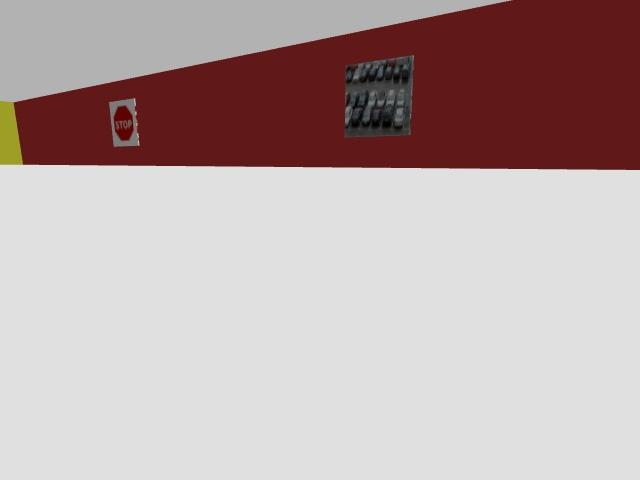stopsign: (110, 98, 139, 145)
vehicle: (382, 107, 393, 127), (393, 107, 403, 127), (351, 108, 362, 126), (361, 106, 371, 125), (356, 90, 367, 107), (385, 89, 395, 107), (371, 107, 381, 125), (377, 90, 386, 108), (396, 89, 405, 106), (345, 106, 352, 127), (367, 90, 376, 106), (401, 63, 409, 79), (348, 92, 356, 108), (376, 65, 384, 80), (368, 66, 376, 81), (359, 68, 368, 81), (352, 68, 360, 82), (393, 64, 400, 79), (385, 66, 392, 79), (346, 69, 353, 82), (396, 57, 404, 68), (345, 92, 350, 105), (388, 59, 396, 67), (380, 60, 387, 68), (364, 63, 371, 69), (349, 65, 356, 71)
